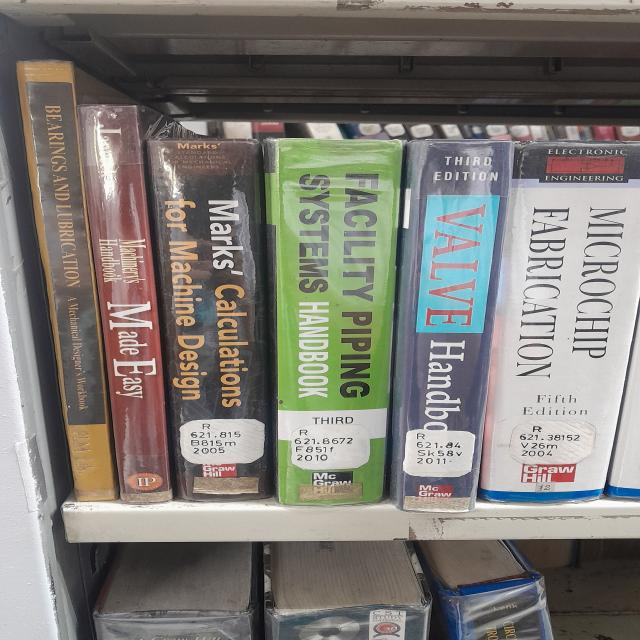book: (479, 142, 640, 502), (265, 139, 403, 506), (387, 140, 514, 513), (77, 105, 193, 501), (147, 139, 272, 501), (17, 61, 117, 501)
